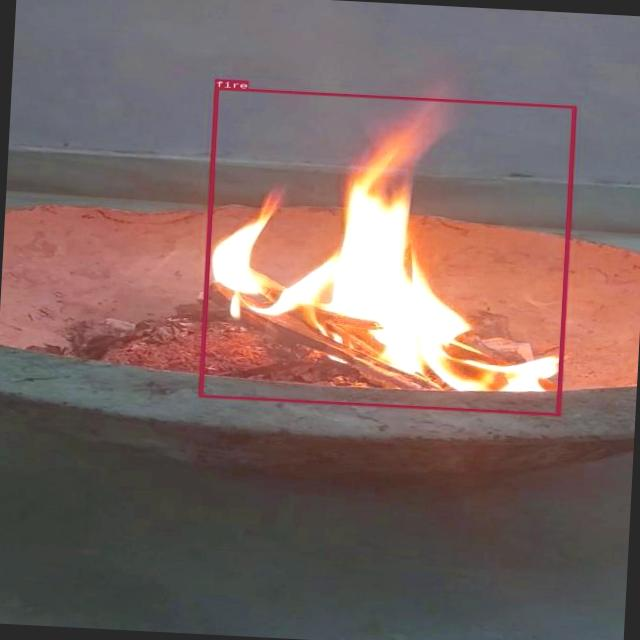fire: (198, 87, 576, 416)
